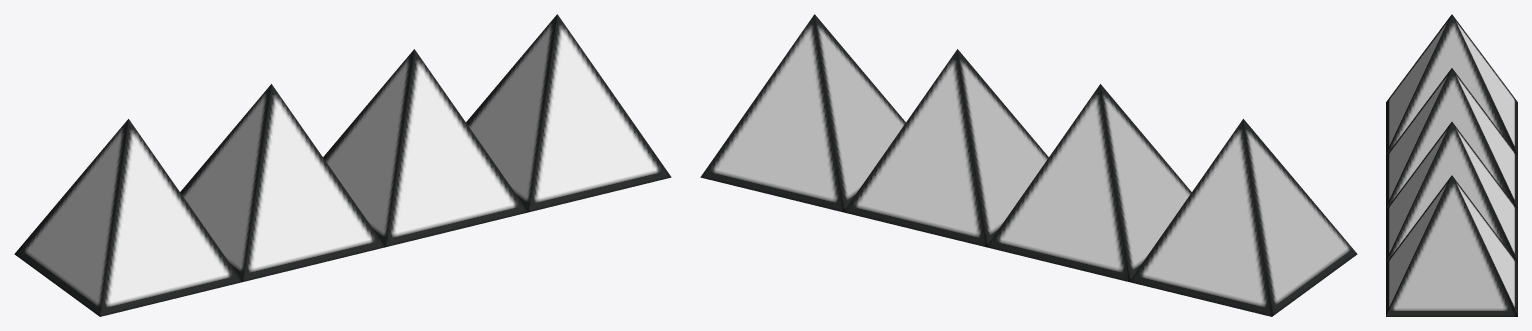
Rendered from Sharp_Corners01.fbx.
The picture shows the model from 3 angles, left to right: view 1: azimuth 30°, elevation 25°; view 2: azimuth 150°, elevation 25°; view 3: azimuth 270°, elevation 25°; orthographic projection. The views are drawn at different scales.
Visible parts, largest first — view 1: polySurface486; view 2: polySurface486; view 3: polySurface486.
Part boxes in pixels (box(x1,y1,x2,y2)): polySurface486: box(14, 14, 671, 316); polySurface486: box(700, 14, 1357, 316); polySurface486: box(1386, 14, 1517, 316).
Size of the model in its own units: 0.2 by 0.05 by 0.052.
Materials: 1 (1 with a texture image).
